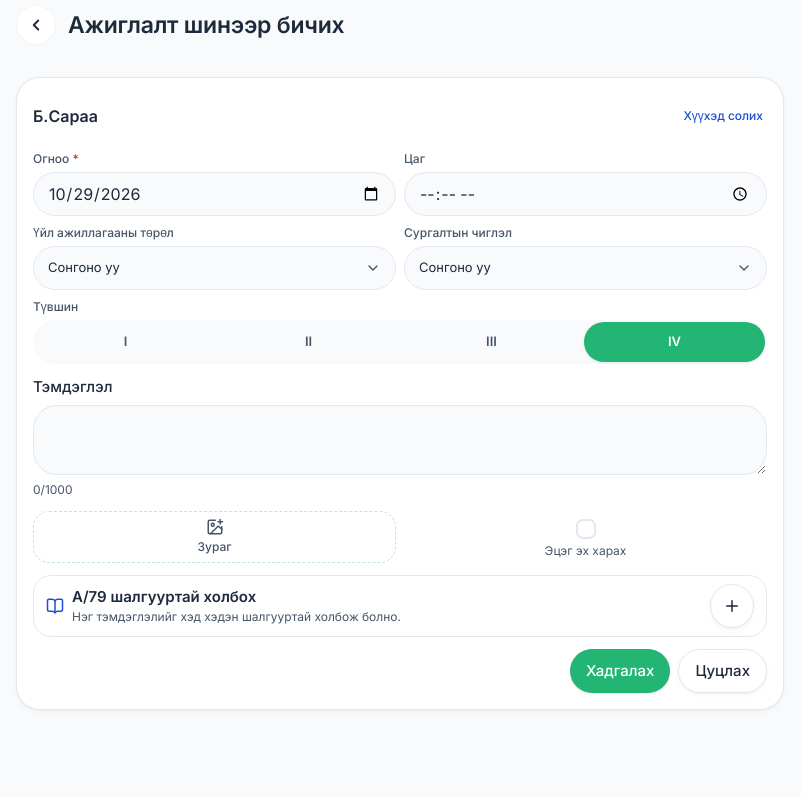
Test: Шинэ ажиглалт — СҮД › re-reads the codes at a level the teacher moved to
Expected: the element named "Түвшин" is shown, [33, 320, 767, 364]
What coordinates should you click on to do the following:
click the radio button with aria-label "II түвшин"
I would click on:
 (308, 342)
Its box is [218, 322, 399, 362].
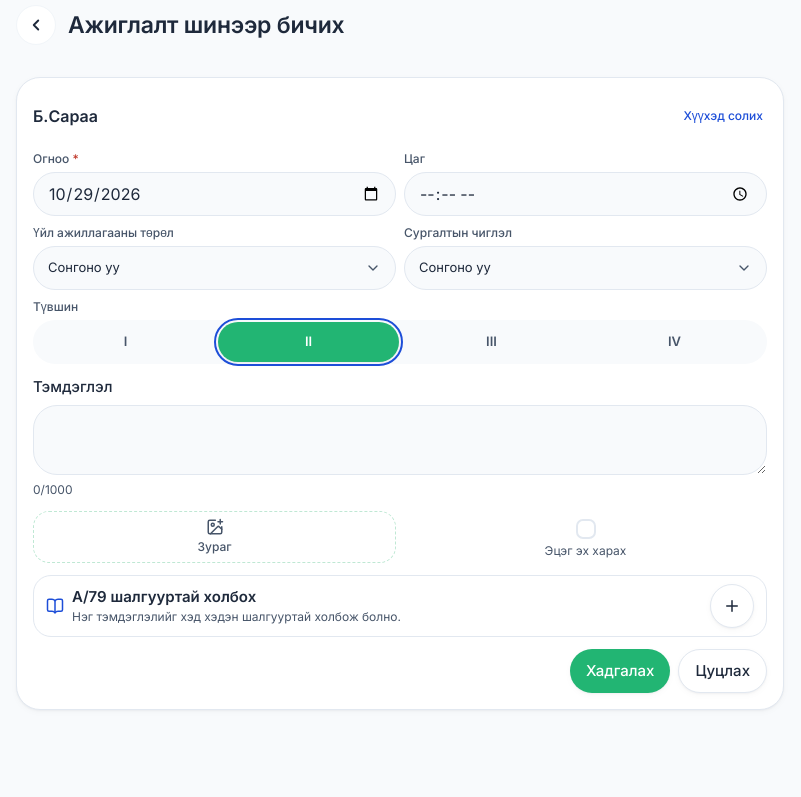
What coordinates should you click on to do the following:
click the dropdown named "Сургалтын чиглэл"
I would click on:
 (455, 267)
Its box is [404, 246, 767, 290].
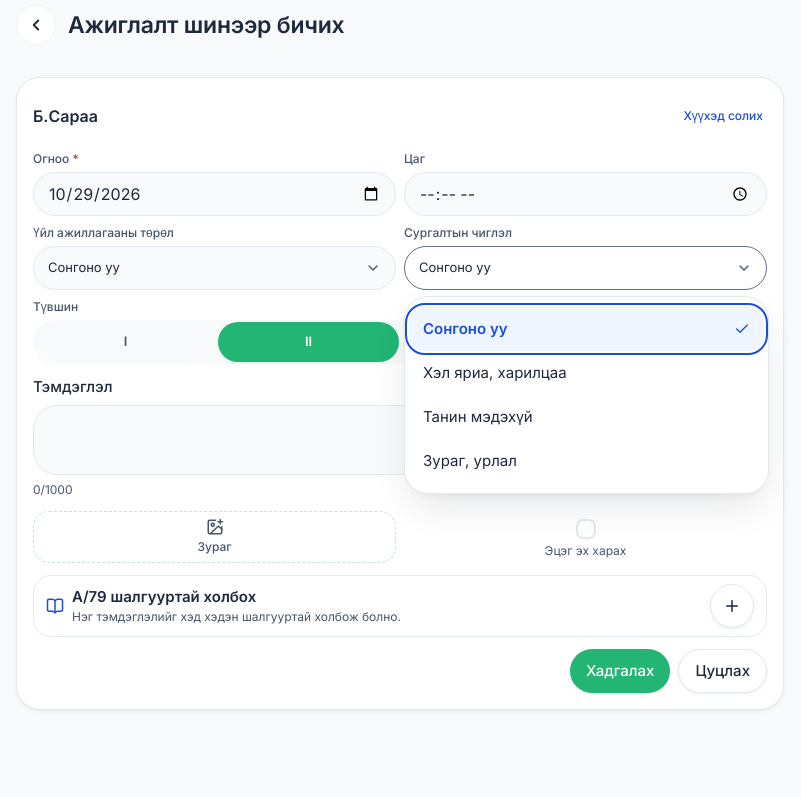
What coordinates should you click on to do the following:
click the option "Хэл яриа, харилцаа"
I would click on:
 (495, 372)
Its box is [423, 363, 567, 382].
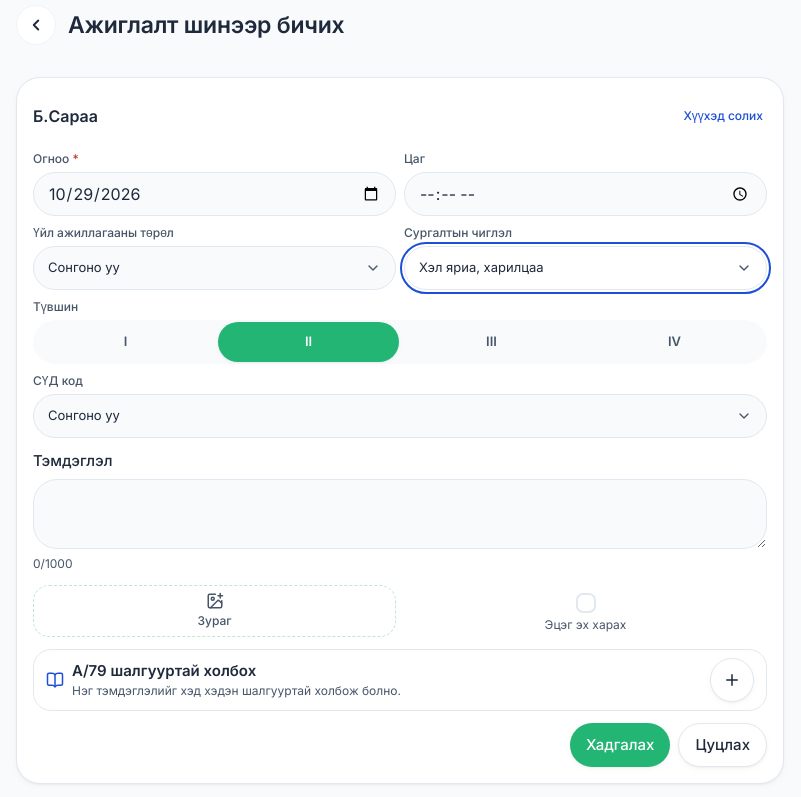
What coordinates should you click on to do the following:
click the dropdown named "СҮД код"
I would click on:
 (84, 415)
Its box is [33, 394, 767, 438].
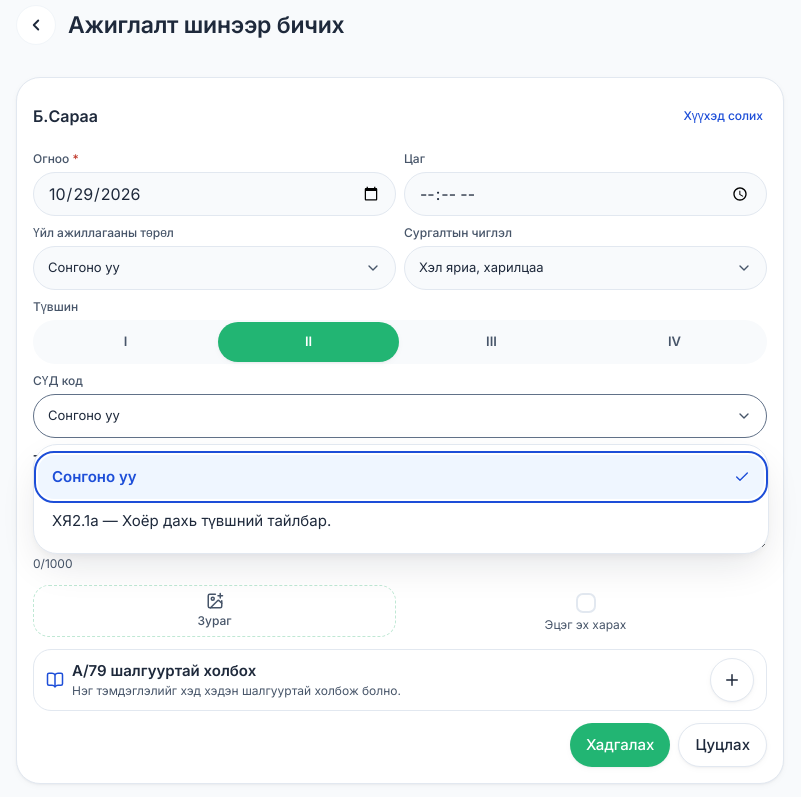
Expected: the option "ХЯ2.1а — Хоёр дахь түвшний тайлбар." is shown, [52, 511, 331, 530]
